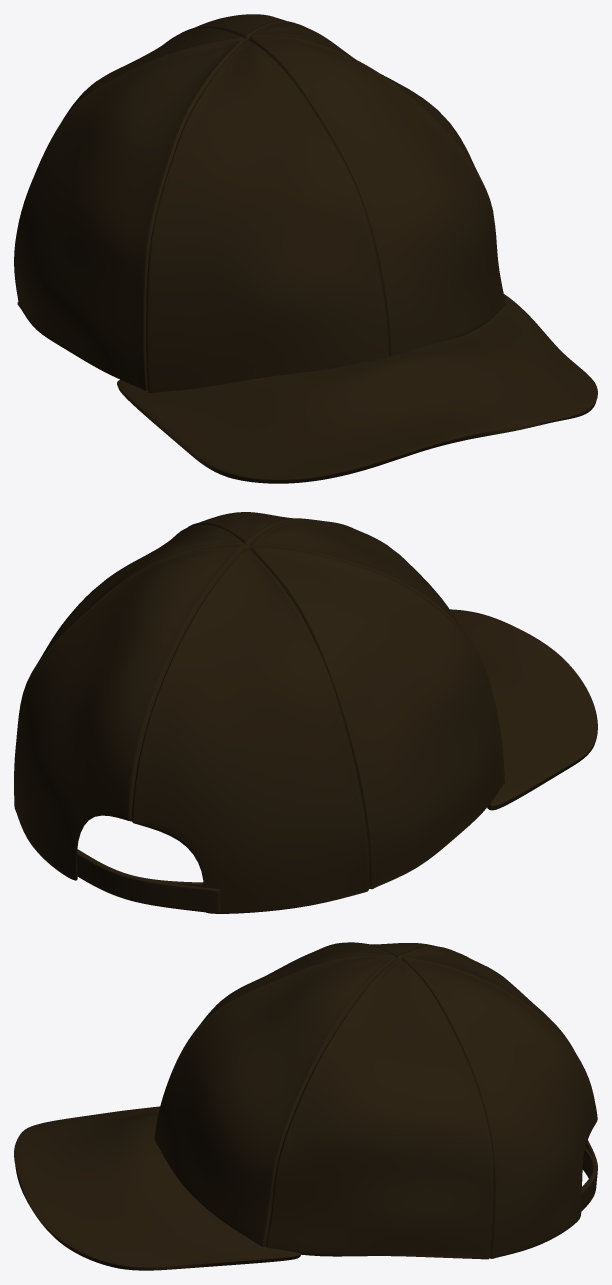
The model's file is Cap.fbx.
3 views of the same model, one above another, from view 1: azimuth 30°, elevation 25°; view 2: azimuth 150°, elevation 25°; view 3: azimuth 270°, elevation 25° (orthographic). The views are drawn at different scales.
Visible parts, largest first — view 1: Cap, Sunshade; view 2: Cap, Sunshade; view 3: Cap, Sunshade.
Boxes of the visible parts, x1,y1,x2,y2 form: Cap: (14, 14, 505, 392); Sunshade: (117, 294, 597, 483); Cap: (14, 512, 504, 913); Sunshade: (77, 609, 597, 913); Cap: (154, 942, 597, 1259); Sunshade: (14, 1106, 597, 1270).
Bounding box in the file's own units: 18.97 × 12.89 × 28.77.
